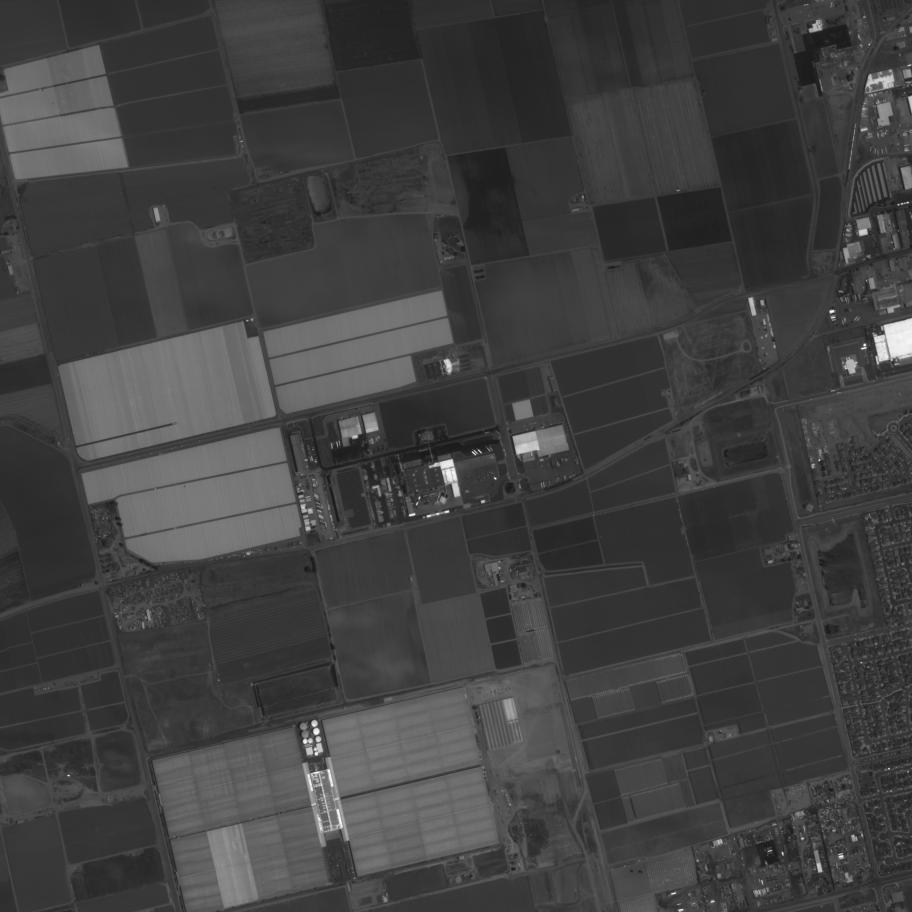storage-tank: (470, 871, 478, 882), (299, 722, 308, 731), (462, 873, 471, 882), (447, 877, 455, 886), (455, 875, 463, 884), (301, 730, 309, 738), (310, 720, 318, 728), (315, 736, 322, 743), (313, 728, 320, 735), (303, 738, 308, 745), (314, 751, 319, 756), (308, 738, 313, 743), (313, 747, 317, 751)
